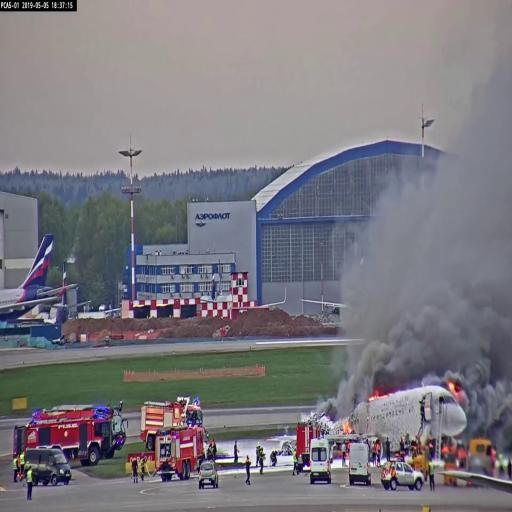smoke: (385, 205, 512, 358), (464, 344, 512, 440)
